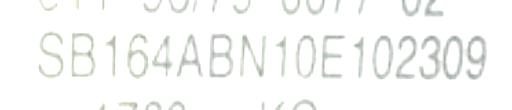letter: (32, 27, 66, 81), (236, 28, 270, 80), (318, 29, 352, 81), (172, 29, 206, 81), (204, 27, 236, 81), (68, 27, 98, 81), (148, 27, 176, 83), (368, 29, 396, 81), (124, 27, 150, 81), (292, 29, 318, 81), (462, 32, 490, 80), (416, 32, 442, 83), (394, 32, 420, 80), (440, 32, 464, 83), (269, 29, 291, 81), (99, 30, 121, 78), (350, 29, 368, 81)
